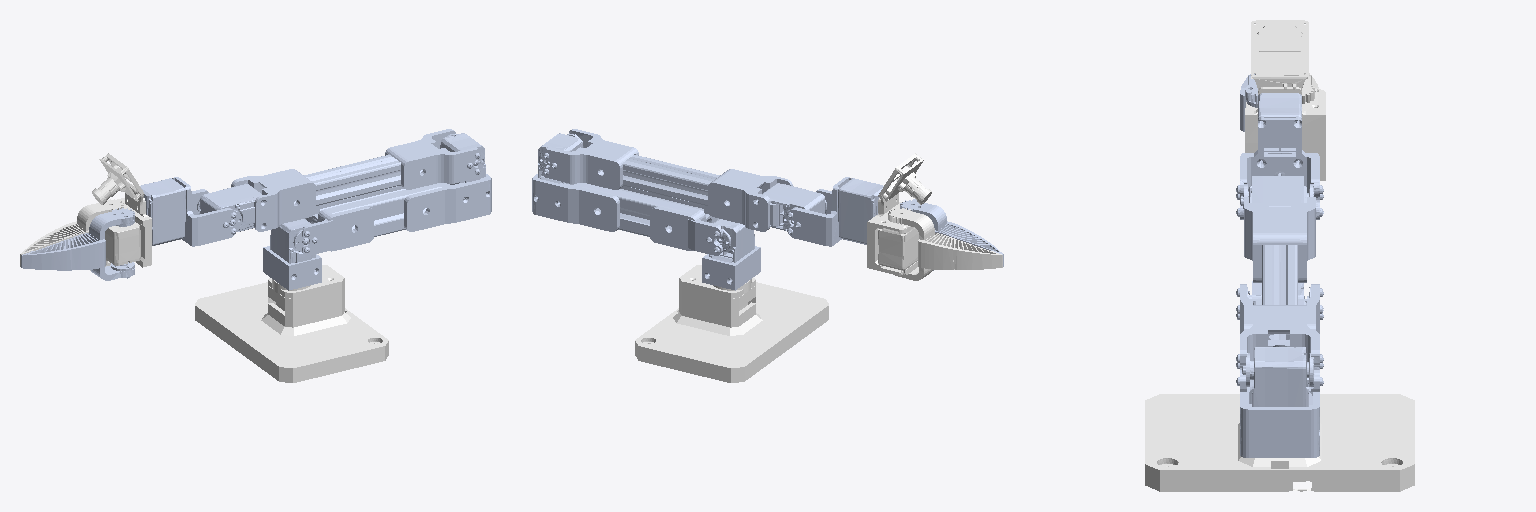
The robot description file, URDF, robot "v1_studio":
<?xml version="1.0" encoding="utf-8"?>
<!-- This URDF was automatically created by SolidWorks to URDF Exporter! Originally created by Stephen Brawner (brawner@gmail.com) 
     Commit Version: 1.6.0-4-g7f85cfe  Build Version: 1.6.7995.38578
     For more information, please see http://wiki.ros.org/sw_urdf_exporter -->
<!-- EduBotics in-repo copy of the V1 (5dof_assembly_urdf2, SolidWorks export 2026-10-22,
     hand-edited claw limits + LF <mimic>) with Base_part.2 as the base. Generated by
     tools/build_v1_urdf_assets.py; see that file for every edit. Deliberate SEMANTIC differences
     from the export: (1) robot name -> v1_studio; (2) mesh paths -> ./meshes/X;
     (3) right-angle limits 1.57 -> 1.5708, 3.14 -> 3.1416, joint4 1.92 -> 1.9198 (110 deg,
     rounded INWARD); (4) base_link frame RE-ORIGINED to the base bottom (the table plane):
     joint1 z 0.0442 -> 0.0502, base_link inertial z +0.006, every base_link mesh vertex +6 mm;
     (5) base_link mesh = Base_part.2.step (placed by the proven feature transform) + the
     exported joint-1 servo + top cover; the old Base_part-1 body and the adapter PCB are dropped. RL_joint/LF_joint are kept as
     exported (0 = closed, + = open) - no axis flip; LF <mimic> multiplier -1 -> -0.947368 (-18/19: the
     18T/19T claw gears, pivots 18.501 mm apart). Non-semantic: CRLF -> LF,
     this comment, meshes decimated by vertex clustering (mean representative: bounding boxes
     can only shrink). -->
<robot
  name="v1_studio">
  <link
    name="base_link">
    <inertial>
      <origin
        xyz="0.006294 0.00047303 0.020636"
        rpy="0 0 0" />
      <mass
        value="0.44512" />
      <inertia
        ixx="0.00045421"
        ixy="-1.0237E-08"
        ixz="-8.3366E-06"
        iyy="0.0002586"
        iyz="1.1427E-08"
        izz="0.0006507" />
    </inertial>
    <visual>
      <origin
        xyz="0 0 0"
        rpy="0 0 0" />
      <geometry>
        <mesh
          filename="./meshes/base_link.STL" />
      </geometry>
      <material
        name="">
        <color
          rgba="1 1 1 1" />
      </material>
    </visual>
    <collision>
      <origin
        xyz="0 0 0"
        rpy="0 0 0" />
      <geometry>
        <mesh
          filename="./meshes/base_link.STL" />
      </geometry>
    </collision>
  </link>
  <link
    name="link1">
    <inertial>
      <origin
        xyz="0.0014217215445681 3.24703152565498E-06 0.0275743625548369"
        rpy="0 0 0" />
      <mass
        value="0.253097683962784" />
      <inertia
        ixx="5.37596457006806E-05"
        ixy="1.15634872323792E-08"
        ixz="8.89636429935959E-07"
        iyy="6.15364398895233E-05"
        iyz="1.01571588802073E-08"
        izz="3.40897973490248E-05" />
    </inertial>
    <visual>
      <origin
        xyz="0 0 0"
        rpy="0 0 0" />
      <geometry>
        <mesh
          filename="./meshes/link1.STL" />
      </geometry>
      <material
        name="">
        <color
          rgba="0.866666666666667 0.909803921568627 1 1" />
      </material>
    </visual>
    <collision>
      <origin
        xyz="0 0 0"
        rpy="0 0 0" />
      <geometry>
        <mesh
          filename="./meshes/link1.STL" />
      </geometry>
    </collision>
  </link>
  <joint
    name="joint1"
    type="revolute">
    <origin
      xyz="0 0 0.0502"
      rpy="0 0 -1.5708" />
    <parent
      link="base_link" />
    <child
      link="link1" />
    <axis
      xyz="0 0 -1" />
    <limit
      lower="-1.5708"
      upper="1.5708"
      effort="1.91"
      velocity="4.72" />
  </joint>
  <link
    name="link2">
    <inertial>
      <origin
        xyz="0.12811481583066 -0.0115179757353191 -0.000207657247117798"
        rpy="0 0 0" />
      <mass
        value="0.388301176905213" />
      <inertia
        ixx="9.43575020400644E-05"
        ixy="-1.07729891303799E-06"
        ixz="3.54457447179401E-07"
        iyy="0.000144660602674154"
        iyz="7.91513884091311E-07"
        izz="0.000154046503149029" />
    </inertial>
    <visual>
      <origin
        xyz="0 0 0"
        rpy="0 0 0" />
      <geometry>
        <mesh
          filename="./meshes/link2.STL" />
      </geometry>
      <material
        name="">
        <color
          rgba="0.866666666666667 0.909803921568627 1 1" />
      </material>
    </visual>
    <collision>
      <origin
        xyz="0 0 0"
        rpy="0 0 0" />
      <geometry>
        <mesh
          filename="./meshes/link2.STL" />
      </geometry>
    </collision>
  </link>
  <joint
    name="joint2"
    type="revolute">
    <origin
      xyz="0 0 0.04175"
      rpy="-1.5708 0 1.5708" />
    <parent
      link="link1" />
    <child
      link="link2" />
    <axis
      xyz="0 0 -1" />
    <limit
      lower="0"
      upper="3.1416"
      effort="4.9"
      velocity="7.87" />
  </joint>
  <link
    name="link3">
    <inertial>
      <origin
        xyz="2.59027387794486E-06 0.182679465418246 0.00113446328979427"
        rpy="0 0 0" />
      <mass
        value="0.317446031504148" />
      <inertia
        ixx="0.000124959367220273"
        ixy="1.01572860248352E-08"
        ixz="1.1563498380464E-08"
        iyy="4.52351362861378E-05"
        iyz="9.63176684011021E-07"
        izz="0.000113659157179064" />
    </inertial>
    <visual>
      <origin
        xyz="0 0 0"
        rpy="0 0 0" />
      <geometry>
        <mesh
          filename="./meshes/link3.STL" />
      </geometry>
      <material
        name="">
        <color
          rgba="0.866666666666667 0.909803921568627 1 1" />
      </material>
    </visual>
    <collision>
      <origin
        xyz="0 0 0"
        rpy="0 0 0" />
      <geometry>
        <mesh
          filename="./meshes/link3.STL" />
      </geometry>
    </collision>
  </link>
  <joint
    name="joint3"
    type="revolute">
    <origin
      xyz="0.1555 -0.032 0"
      rpy="-3.1416 0 -1.5708" />
    <parent
      link="link2" />
    <child
      link="link3" />
    <axis
      xyz="0 0 -1" />
    <limit
      lower="0"
      upper="3.1416"
      effort="4.9"
      velocity="7.87" />
  </joint>
  <link
    name="link4">
    <inertial>
      <origin
        xyz="0.0122049931515026 0.0509912087404549 -2.39491178951612E-05"
        rpy="0 0 0" />
      <mass
        value="0.256065656080656" />
      <inertia
        ixx="3.5759321999787E-05"
        ixy="-1.14920461583235E-06"
        ixz="-3.33702370282827E-08"
        iyy="5.70428775455445E-05"
        iyz="-1.74242800392937E-07"
        izz="6.20268173564167E-05" />
    </inertial>
    <visual>
      <origin
        xyz="0 0 0"
        rpy="0 0 0" />
      <geometry>
        <mesh
          filename="./meshes/link4.STL" />
      </geometry>
      <material
        name="">
        <color
          rgba="0.866666666666667 0.909803921568627 1 1" />
      </material>
    </visual>
    <collision>
      <origin
        xyz="0 0 0"
        rpy="0 0 0" />
      <geometry>
        <mesh
          filename="./meshes/link4.STL" />
      </geometry>
    </collision>
  </link>
  <joint
    name="joint4"
    type="revolute">
    <origin
      xyz="0 0.2225 0"
      rpy="0 0 0" />
    <parent
      link="link3" />
    <child
      link="link4" />
    <axis
      xyz="0 0 -1" />
    <limit
      lower="-1.9198"
      upper="1.9198"
      effort="1.91"
      velocity="4.72" />
  </joint>
  <link
    name="link5">
    <inertial>
      <origin
        xyz="1.8846035843012E-12 -1.03583808197527E-13 -0.00160250004395546"
        rpy="0 0 0" />
      <mass
        value="0.00204505697080943" />
      <inertia
        ixx="4.67240251871523E-08"
        ixy="2.88093762370086E-19"
        ixz="5.96587412804267E-18"
        iyy="4.67240251853872E-08"
        iyz="-3.73158292699469E-19"
        izz="8.85697744469519E-08" />
    </inertial>
    <visual>
      <origin
        xyz="0 0 0"
        rpy="0 0 0" />
      <geometry>
        <mesh
          filename="./meshes/link5.STL" />
      </geometry>
      <material
        name="">
        <color
          rgba="0.866666666666667 0.909803921568627 1 1" />
      </material>
    </visual>
    <collision>
      <origin
        xyz="0 0 0"
        rpy="0 0 0" />
      <geometry>
        <mesh
          filename="./meshes/link5.STL" />
      </geometry>
    </collision>
  </link>
  <joint
    name="joint5"
    type="revolute">
    <origin
      xyz="0 0.07195 0"
      rpy="-1.5708 0 0" />
    <parent
      link="link4" />
    <child
      link="link5" />
    <axis
      xyz="0 0 -1" />
    <limit
      lower="-1.5708"
      upper="1.5708"
      effort="1.91"
      velocity="4.72" />
  </joint>
  <link
    name="end_effector">
    <inertial>
      <origin
        xyz="0.00184860226621941 0.00368702821555023 0.0202927886121953"
        rpy="0 0 0" />
      <mass
        value="0.263353692767682" />
      <inertia
        ixx="5.65396011394828E-05"
        ixy="-6.51264509757904E-07"
        ixz="-4.50895635522001E-08"
        iyy="3.64554165046407E-05"
        iyz="-4.69621026189821E-07"
        izz="6.6498166814012E-05" />
    </inertial>
    <visual>
      <origin
        xyz="0 0 0"
        rpy="0 0 0" />
      <geometry>
        <mesh
          filename="./meshes/end_effector.STL" />
      </geometry>
      <material
        name="">
        <color
          rgba="1 1 1 1" />
      </material>
    </visual>
    <collision>
      <origin
        xyz="0 0 0"
        rpy="0 0 0" />
      <geometry>
        <mesh
          filename="./meshes/end_effector.STL" />
      </geometry>
    </collision>
  </link>
  <joint
    name="end_joint"
    type="fixed">
    <origin
      xyz="0 0 0"
      rpy="0 0 0" />
    <parent
      link="link5" />
    <child
      link="end_effector" />
    <axis
      xyz="0 0 0" />
  </joint>
  <link
    name="right_finger">
    <inertial>
      <origin
        xyz="0.000838903337830432 -0.0264169117256445 -0.0204614636367219"
        rpy="0 0 0" />
      <mass
        value="0.022872799734015" />
      <inertia
        ixx="4.63473069895793E-06"
        ixy="-3.6168580053677E-07"
        ixz="-3.40974021838075E-09"
        iyy="1.26845954631297E-06"
        iyz="3.7735520663409E-08"
        izz="4.83830755124944E-06" />
    </inertial>
    <visual>
      <origin
        xyz="0 0 0"
        rpy="0 0 0" />
      <geometry>
        <mesh
          filename="./meshes/right_finger.STL" />
      </geometry>
      <material
        name="">
        <color
          rgba="0.866666666666667 0.909803921568627 1 1" />
      </material>
    </visual>
    <collision>
      <origin
        xyz="0 0 0"
        rpy="0 0 0" />
      <geometry>
        <mesh
          filename="./meshes/right_finger.STL" />
      </geometry>
    </collision>
  </link>
  <joint
    name="RL_joint"
    type="revolute">
    <origin
      xyz="0.020197 -0.00925 0.02125"
      rpy="-1.5708 0 -1.5708" />
    <parent
      link="end_effector" />
    <child
      link="right_finger" />
    <axis
      xyz="0 0 1" />
    <limit
      lower="0"
      upper="1.5708"
      effort="1.91"
      velocity="4.72" />
  </joint>
  <link
    name="left_finger">
    <inertial>
      <origin
        xyz="-0.000918131929390387 -0.032329037642727 -0.0198434283313065"
        rpy="0 0 0" />
      <mass
        value="0.0187410605881476" />
      <inertia
        ixx="4.49456158750242E-06"
        ixy="3.68689376245847E-07"
        ixz="-9.90289171157234E-10"
        iyy="1.19679714492156E-06"
        iyz="7.51779506423962E-09"
        izz="4.57772515419987E-06" />
    </inertial>
    <visual>
      <origin
        xyz="0 0 0"
        rpy="0 0 0" />
      <geometry>
        <mesh
          filename="./meshes/left_finger.STL" />
      </geometry>
      <material
        name="">
        <color
          rgba="1 1 1 1" />
      </material>
    </visual>
    <collision>
      <origin
        xyz="0 0 0"
        rpy="0 0 0" />
      <geometry>
        <mesh
          filename="./meshes/left_finger.STL" />
      </geometry>
    </collision>
  </link>
  <joint
    name="LF_joint"
    type="revolute">
    <origin
      xyz="0.02 0.00925 0.02125"
      rpy="-1.5708 0 -1.5708" />
    <parent
      link="end_effector" />
    <child
      link="left_finger" />
    <axis
      xyz="0 0 1" />
    <limit
      lower="-1.5708"
      upper="0"
      effort="1.91"
      velocity="4.72" />
    <mimic
      joint="RL_joint"
      multiplier="-0.947368"
      offset="0" />
  </joint>
</robot>

--- Facts derived from the render (not from the file) ---
3 views of the same robot in one strip: view 1: azimuth 30°, elevation 25°; view 2: azimuth 150°, elevation 25°; view 3: azimuth 270°, elevation 25° (orthographic).
Robot: v1_studio — 9 links, 8 joints (7 revolute, 1 fixed); root link base_link; default pose: every joint at zero.
Visible links, largest first — view 1: base_link, link3, link2, link4, right_finger, end_effector, link1, left_finger; view 2: base_link, link3, link2, link4, end_effector, left_finger, link1, right_finger; view 3: base_link, link3, link2, end_effector, link4, right_finger.
Boxes of the visible links, left/top/right/bottom form: base_link: left=195, top=265, right=388, bottom=382; link3: left=200, top=129, right=484, bottom=231; link2: left=293, top=133, right=491, bottom=255; link4: left=140, top=177, right=241, bottom=246; right_finger: left=21, top=208, right=134, bottom=280; end_effector: left=92, top=153, right=151, bottom=267; link1: left=263, top=219, right=321, bottom=290; left_finger: left=20, top=199, right=123, bottom=270; base_link: left=635, top=265, right=828, bottom=382; link3: left=539, top=129, right=824, bottom=231; link2: left=532, top=133, right=730, bottom=255; link4: left=783, top=177, right=883, bottom=246; end_effector: left=867, top=153, right=931, bottom=275; left_finger: left=888, top=208, right=1002, bottom=280; link1: left=702, top=219, right=760, bottom=290; right_finger: left=900, top=199, right=1003, bottom=270; base_link: left=1145, top=394, right=1414, bottom=491; link3: left=1236, top=176, right=1323, bottom=391; link2: left=1236, top=284, right=1323, bottom=457; end_effector: left=1245, top=20, right=1325, bottom=180; link4: left=1236, top=93, right=1323, bottom=219; right_finger: left=1240, top=74, right=1257, bottom=131.
Size in the robot's own frame: 0.4183 by 0.15 by 0.1917 metres.
9 mesh visuals loaded from 9 distinct referenced files (9 binary STL).
